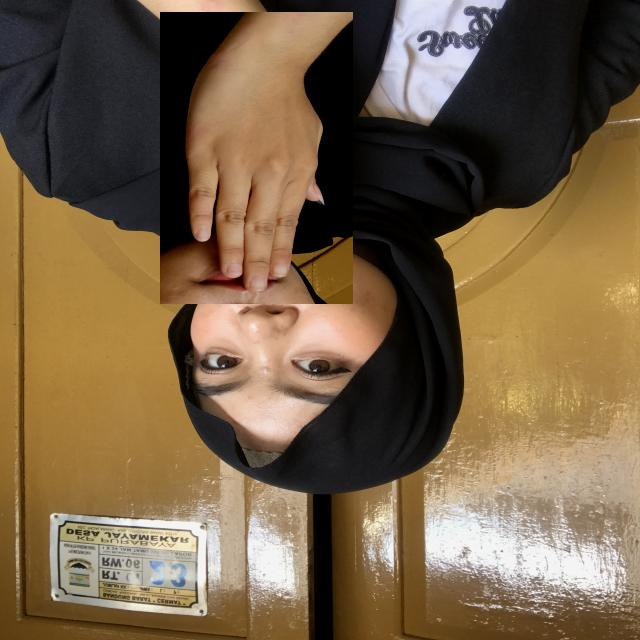ganteng: (160, 12, 353, 304)
